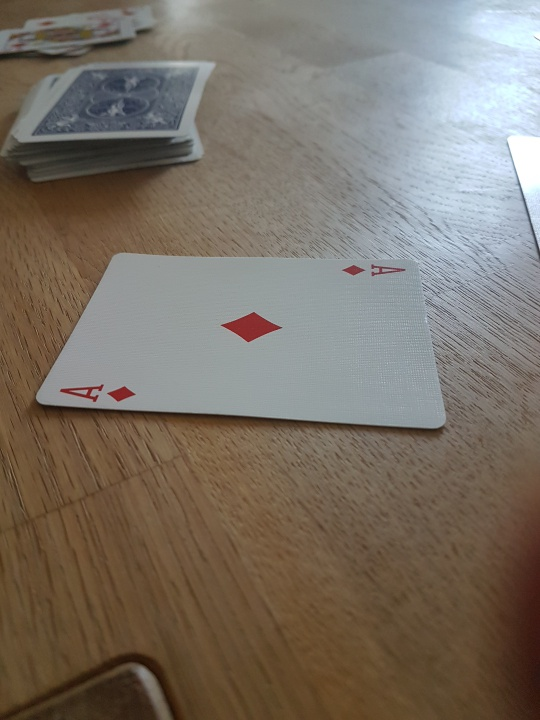ace: (26, 247, 456, 440)
